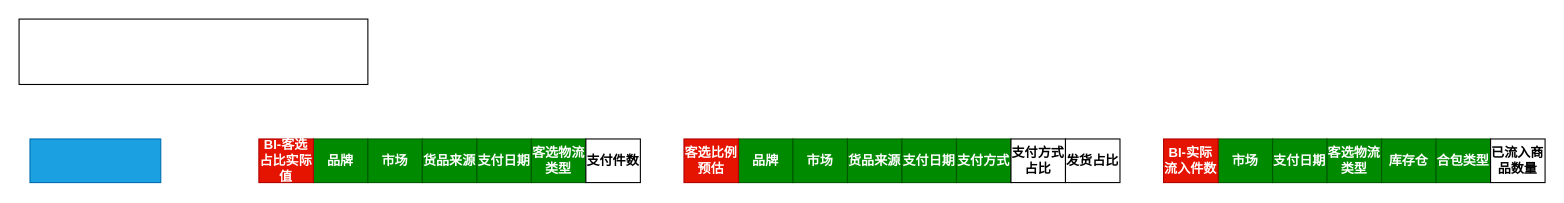
Image size: 1564x203. Some labels were removed from this diagram. Each missing label, with the centre of its shape:
数据组织: pixel 95 160
流入预估-实际值计算: pixel 193 51
